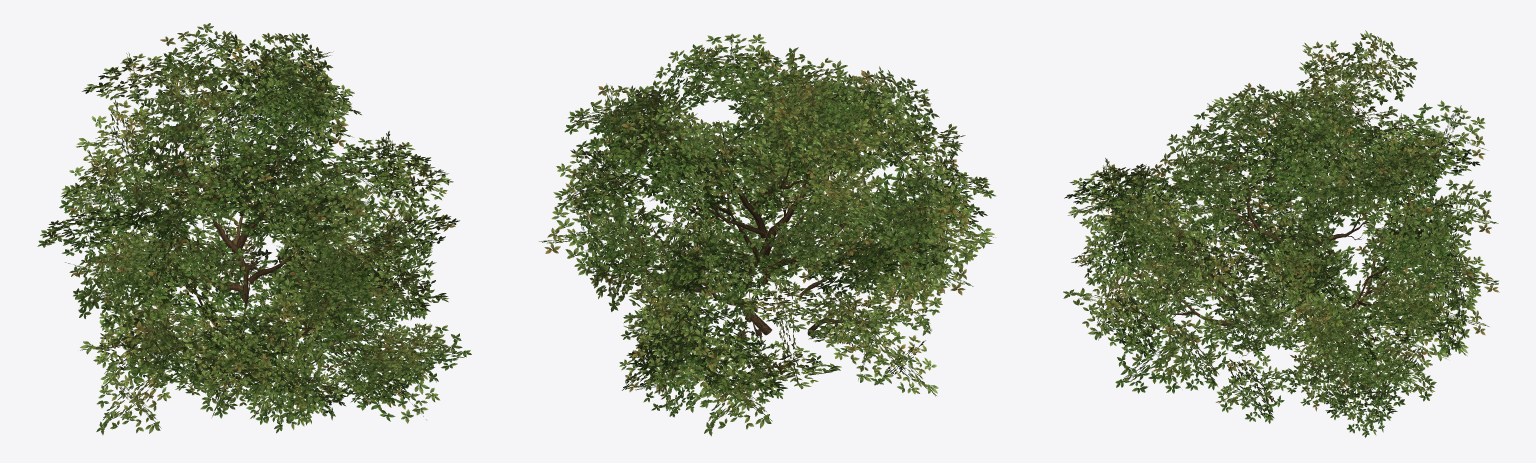
Rendered from bg_anh_tree_te_t53_sm_old.FBX.
3 renders of one model, left to right at view 1: azimuth 30°, elevation 25°; view 2: azimuth 150°, elevation 25°; view 3: azimuth 270°, elevation 25°, orthographic. The views are drawn at different scales.
Visible parts, largest first — view 1: bg_anh_tree_te_t53_sm_old; view 2: bg_anh_tree_te_t53_sm_old; view 3: bg_anh_tree_te_t53_sm_old.
Part boxes in pixels (<box>): bg_anh_tree_te_t53_sm_old: <box>37,23,471,434</box>; bg_anh_tree_te_t53_sm_old: <box>539,33,995,436</box>; bg_anh_tree_te_t53_sm_old: <box>1063,30,1499,437</box>.
Size of the model in its own units: 486 by 424 by 528.
